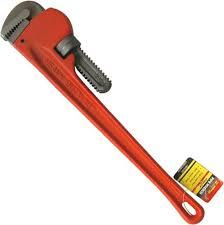wrench: (0, 0, 205, 224)
